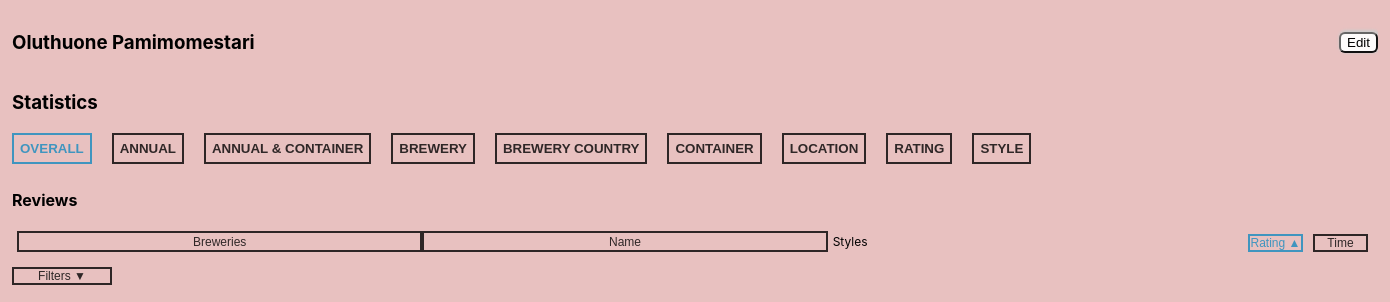
Test: cancel editing
Expected: the heading "Oluthuone Pamimomestari" is shown, [12,31,255,54]
Click the button "Edit" at [1358, 42], box [1339,32,1378,53]
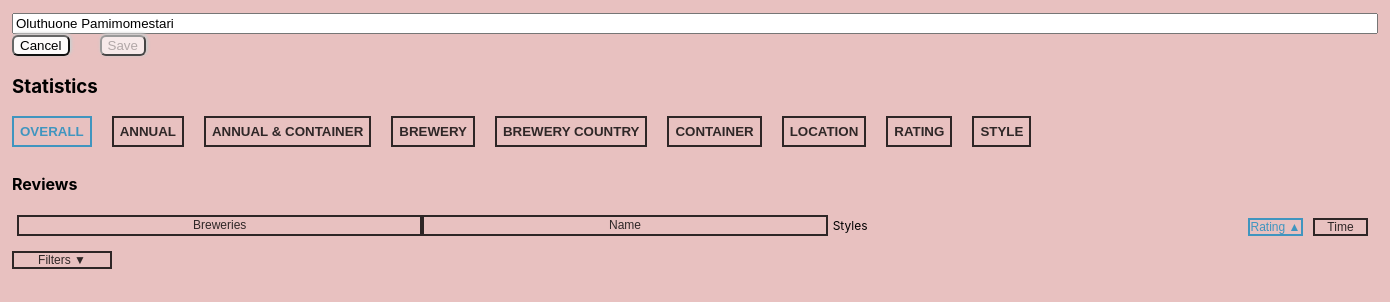
Click the button "Cancel" at [41, 46], box [12,35,70,56]
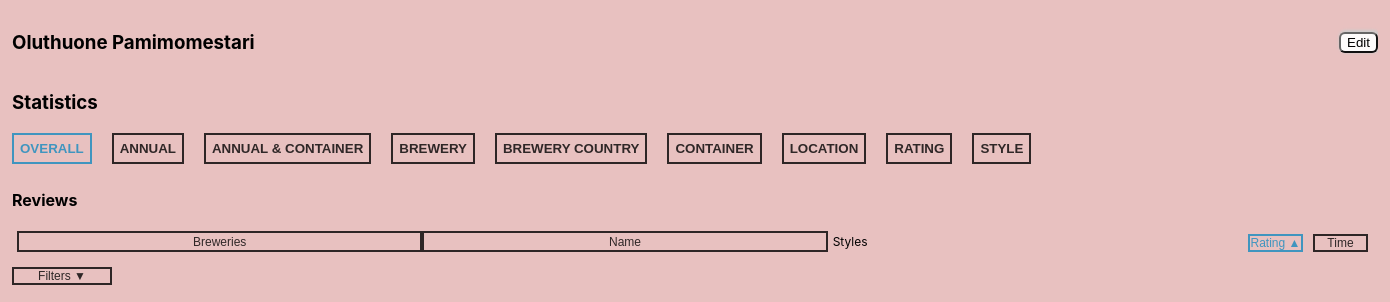
Expected: the button "Edit" is shown, [1339,32,1378,53]
